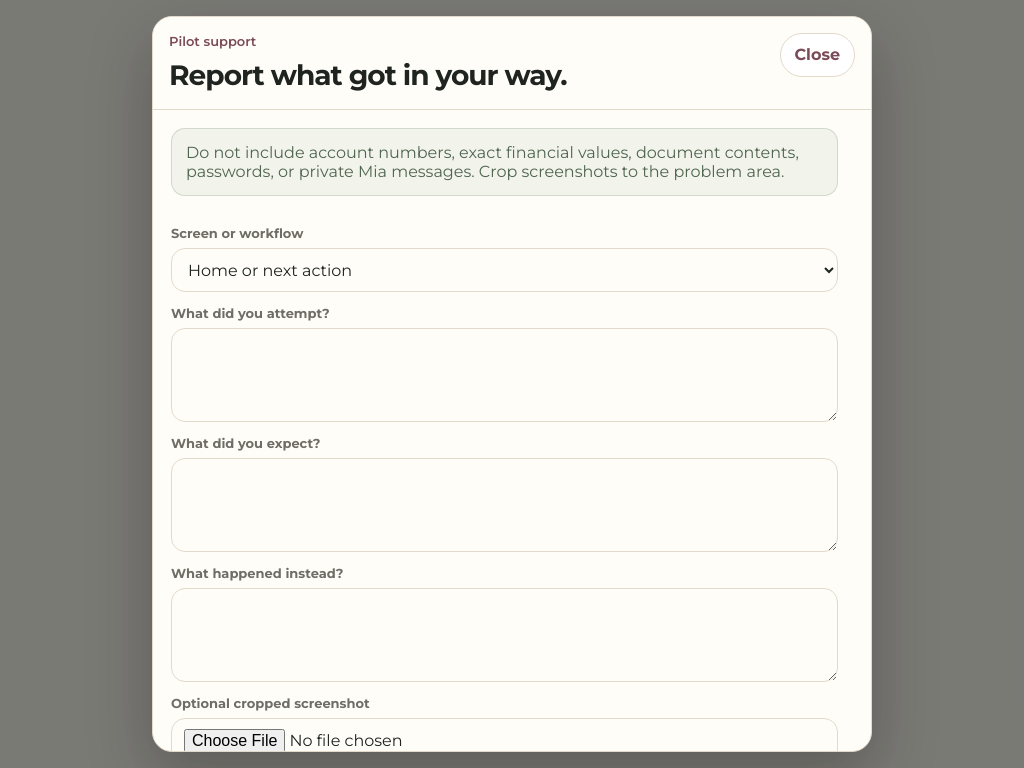
report-only support sharing › withdraws confirmed report access and preserves a retry action after uncertainty
This screenshot has width=1024, height=768.
Type "Open technical help" into the text box labelled "What did you attempt?" at (504, 375), box x1=171 y1=328 x2=838 y2=422
Type "A readable button" into the text box labelled "What did you expect?" at (504, 505), box x1=171 y1=458 x2=838 y2=552
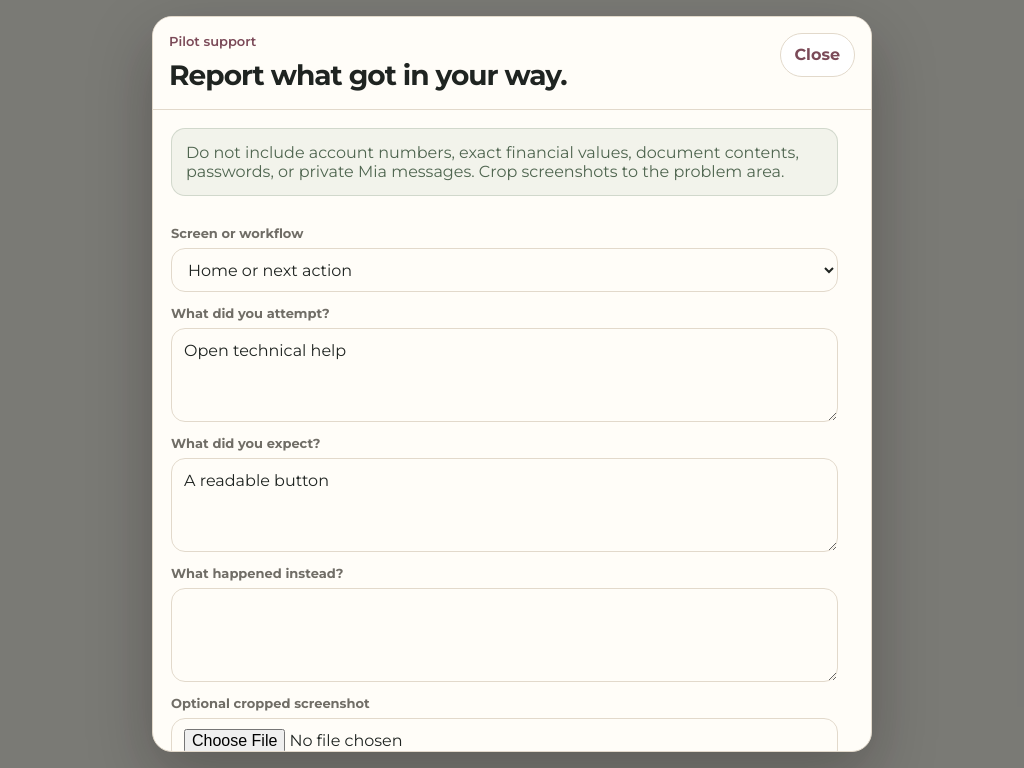
Type "A small button" into the text box labelled "What happened instead?" at (504, 635), box x1=171 y1=588 x2=838 y2=682
(page scrolled)
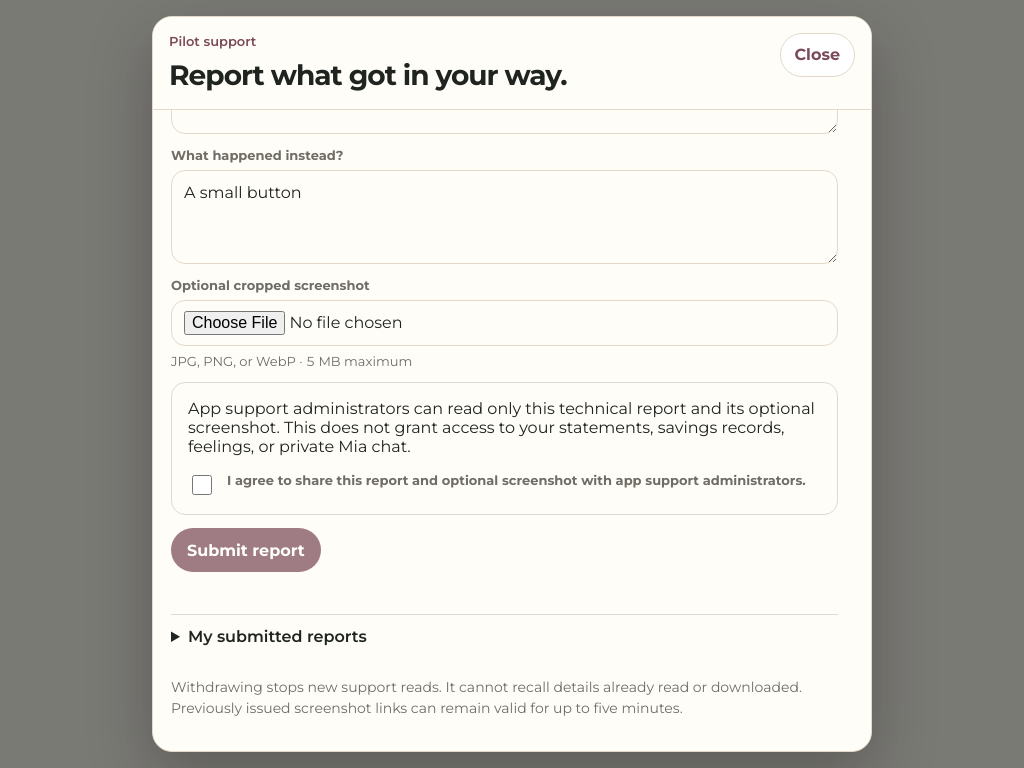
Click the checkbox named "I agree to share this report and optional screenshot with app support administrators." at (202, 485), box x1=192 y1=475 x2=212 y2=495
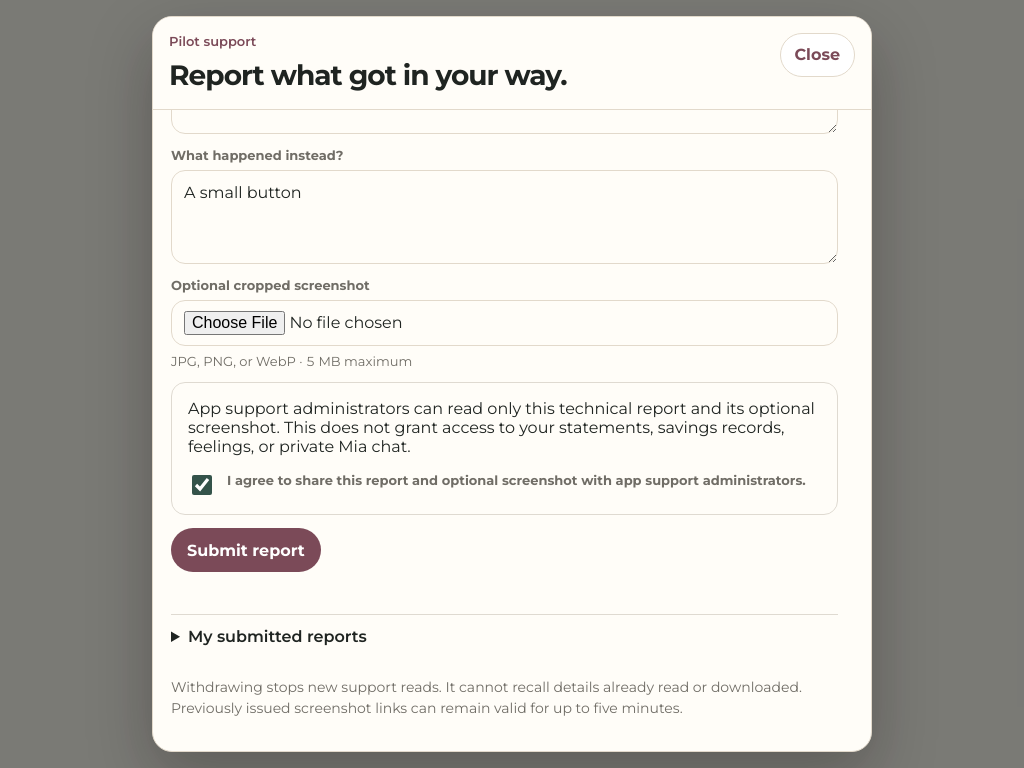
Click the button "Submit report" at (246, 550), box x1=171 y1=528 x2=321 y2=572
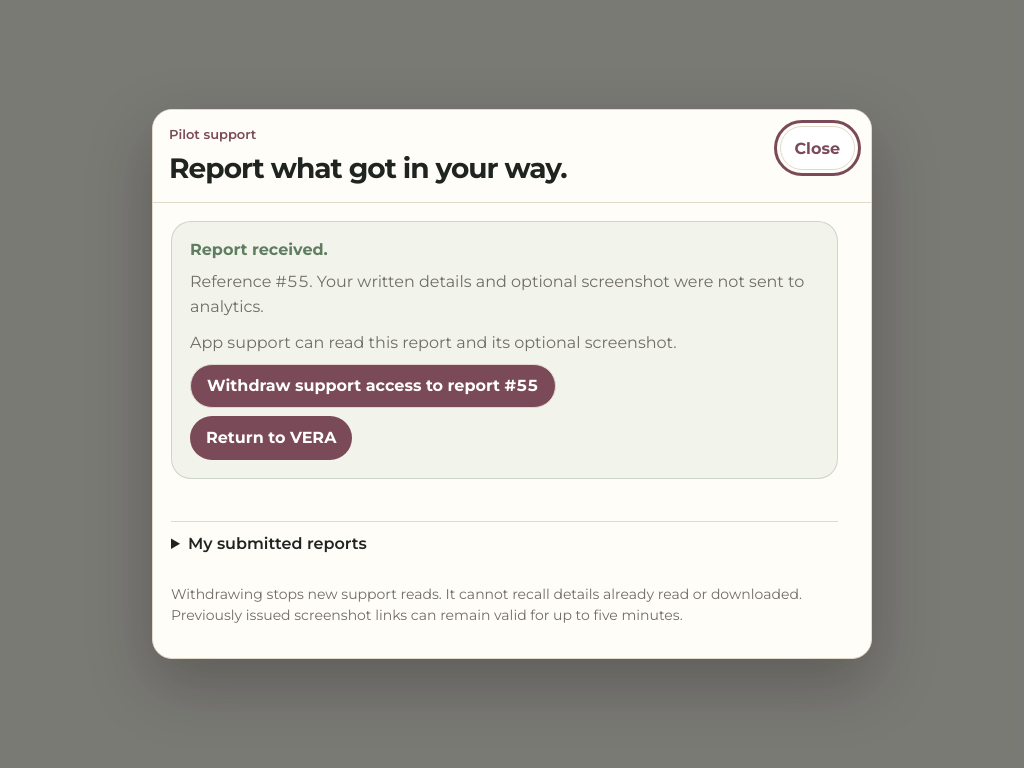
Click the button "Withdraw support access to report #55" at (373, 386), box x1=190 y1=364 x2=556 y2=408
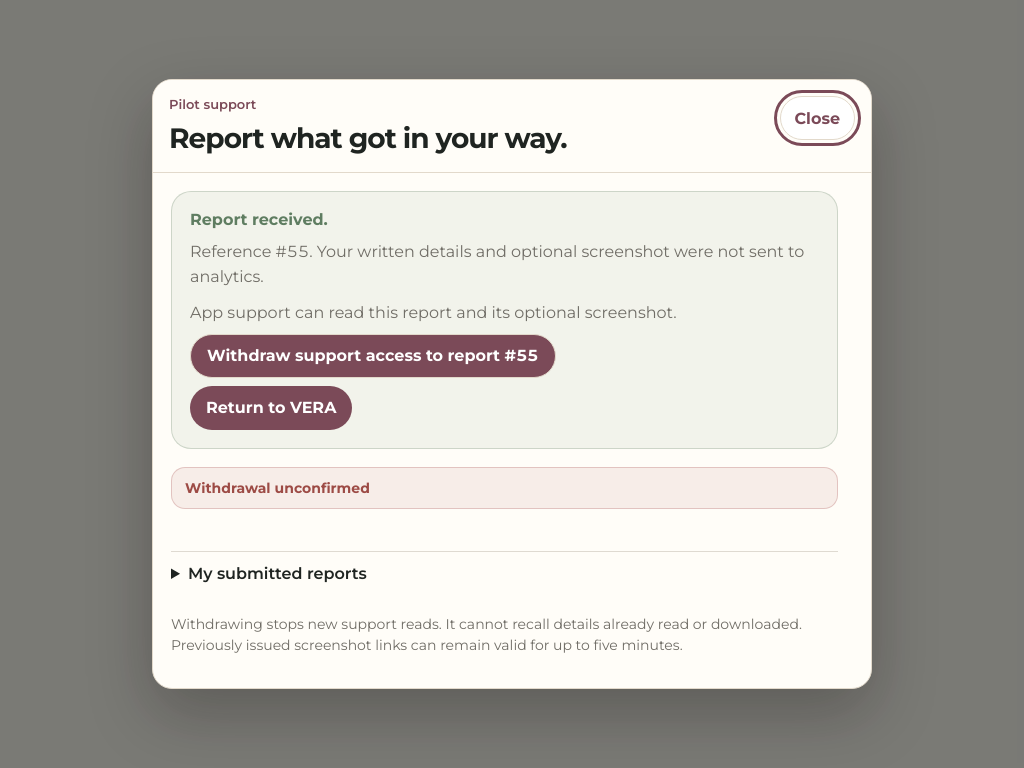
Result: the text "Withdrawal unconfirmed" is shown at x1=171 y1=467 x2=838 y2=509
Click the button "Withdraw support access to report #55" at (373, 356), box x1=190 y1=334 x2=556 y2=378
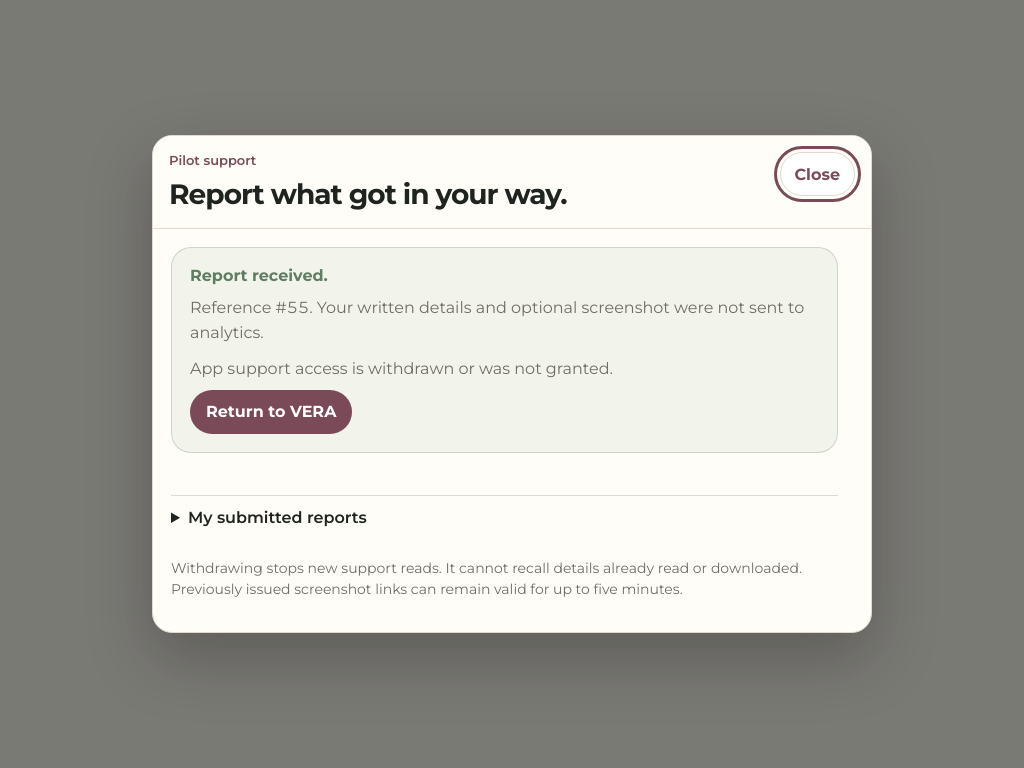
Result: the text "App support access is withdrawn or was not granted." is shown at x1=190 y1=357 x2=613 y2=382
Result: the button "Withdraw support access to report #55" is gone
